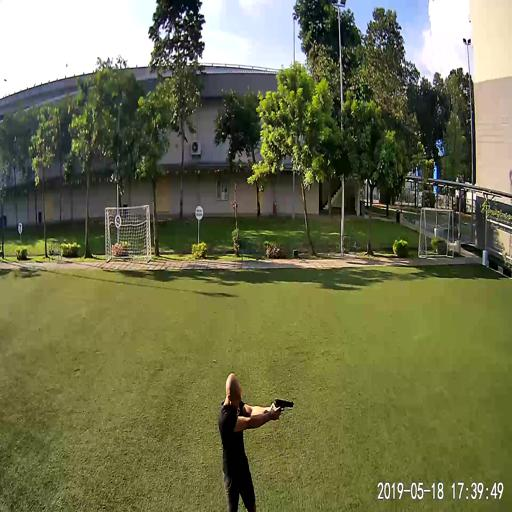pistol: (273, 396, 294, 413)
